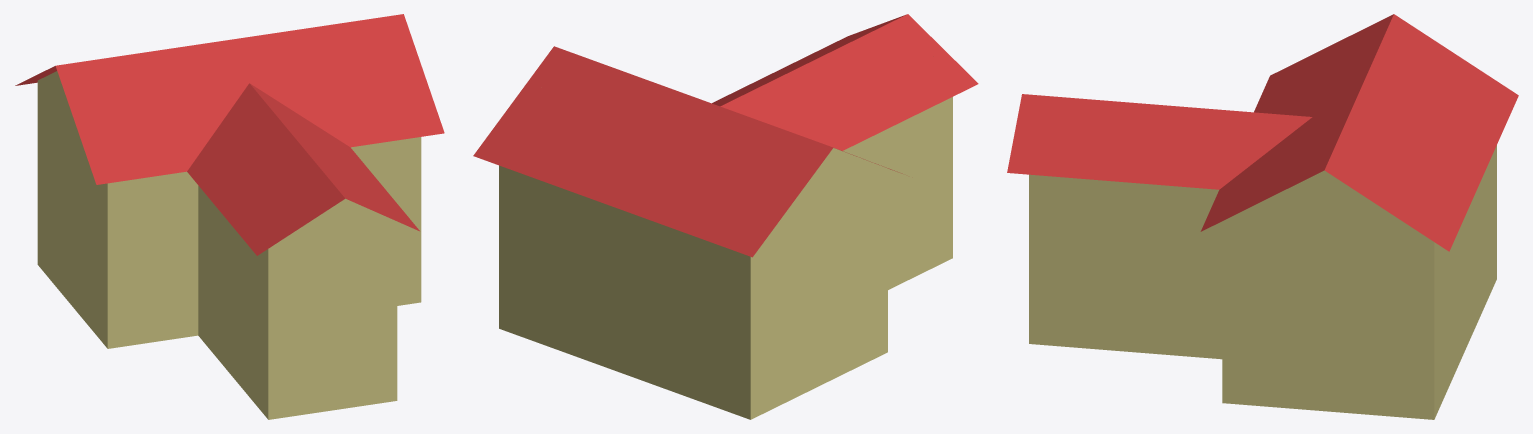
The picture shows the model from 3 angles, left to right: view 1: azimuth 30°, elevation 25°; view 2: azimuth 150°, elevation 25°; view 3: azimuth 270°, elevation 25°; orthographic projection. The views are drawn at different scales.
Bounding box in the file's own units: 16.65 × 20.44 × 10.97.
